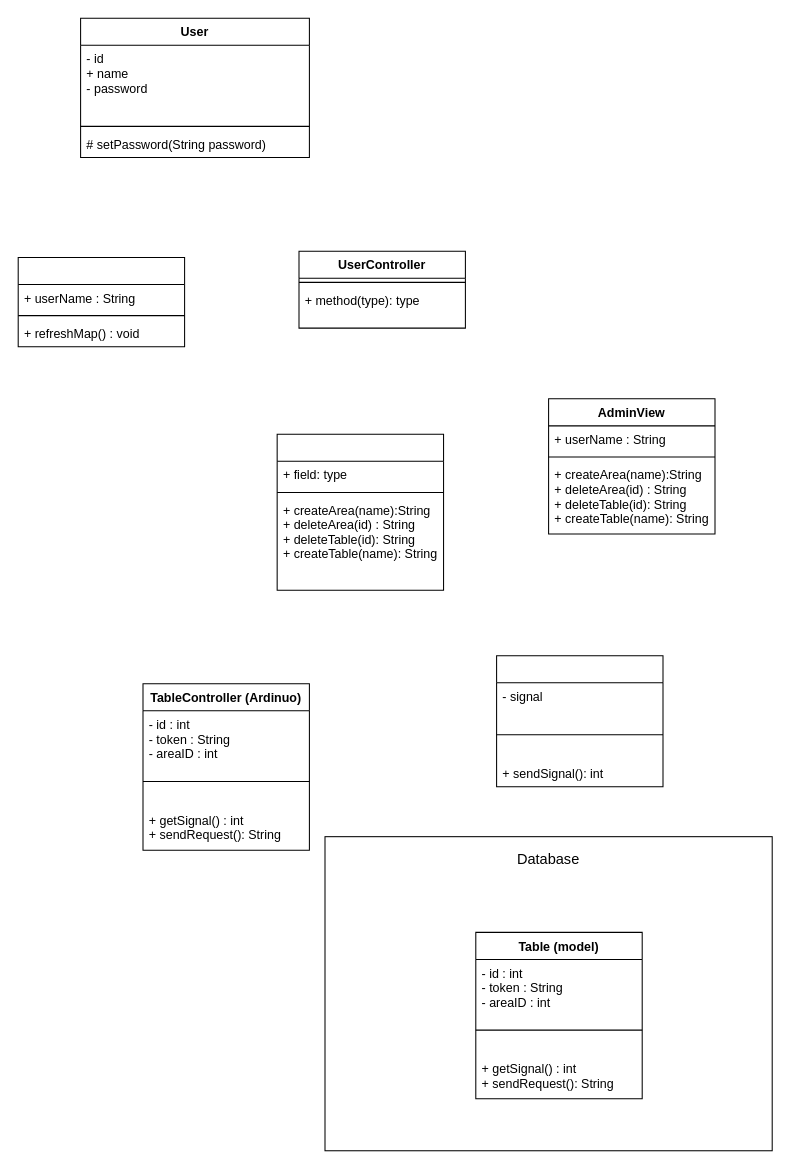
This 790x1169 diagram has some shape labels left out. Each missing label, with the box of its shape:
AdminController: (276, 433, 444, 590)
Sensor: (496, 655, 663, 787)
UserView: (17, 256, 185, 347)
